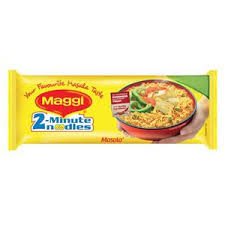maggi: (13, 77, 212, 142)
